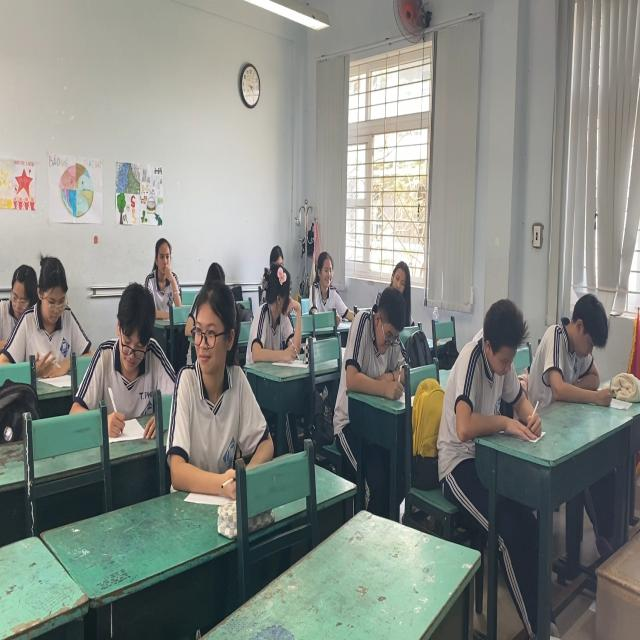cheating: (178, 286, 250, 476), (247, 258, 304, 358)
not_cheating: (537, 286, 632, 428), (448, 296, 539, 442), (100, 286, 166, 444), (342, 279, 420, 404), (32, 252, 90, 372), (1, 255, 44, 331), (308, 248, 348, 327), (141, 238, 181, 313)
